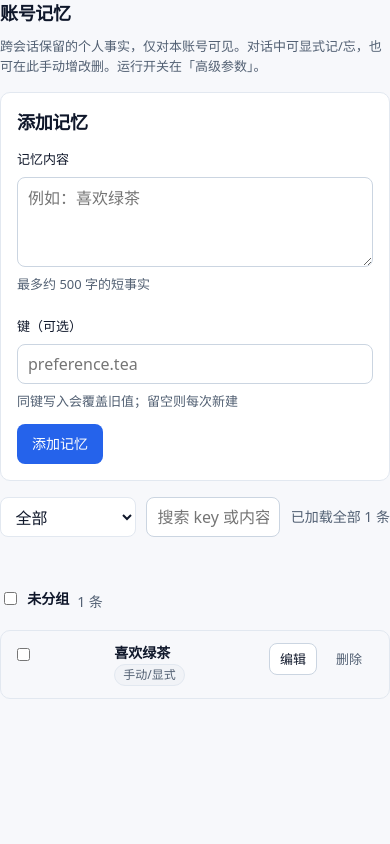
Test: MemorySettings › deletes via ConfirmDialog and calls deleteMemory
The width and height of the screenshot is (390, 844).
Later steps or results of the test are not shown.
Click the button "删除" at (349, 659), box [325, 642, 373, 675]
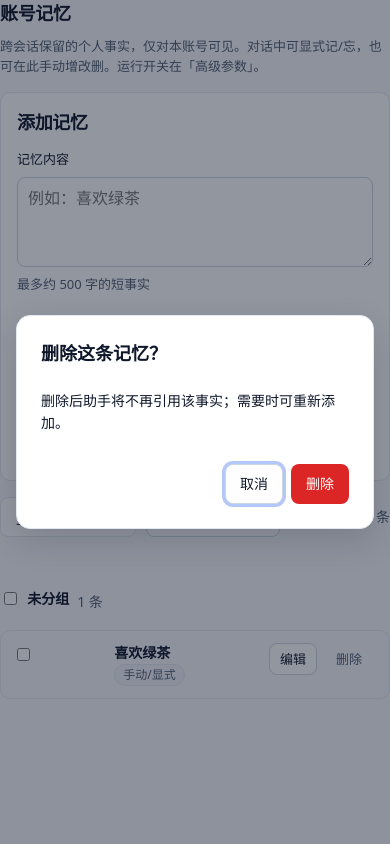
Result: the text "删除这条记忆？" is shown at [41, 341, 167, 365]
